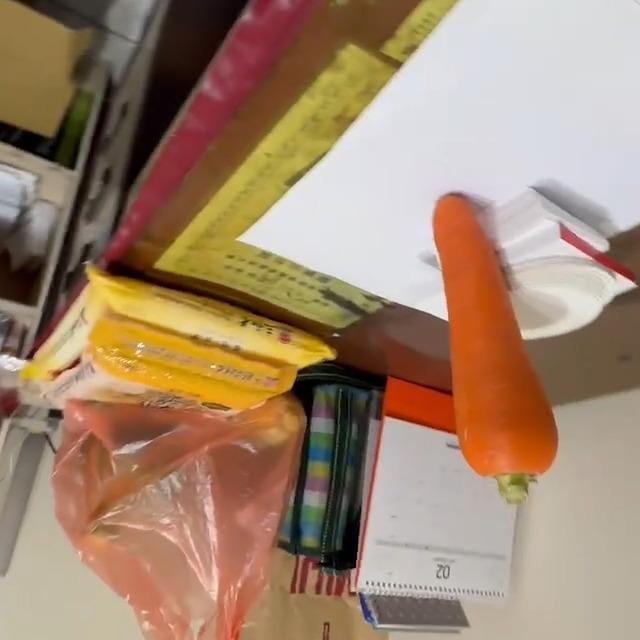carrot: (431, 194, 561, 503)
